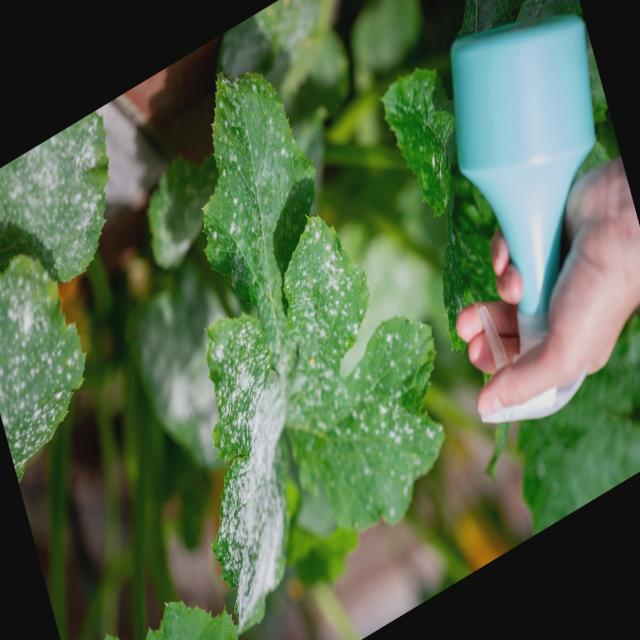Powdery Mildew: (204, 311, 288, 635), (0, 252, 86, 484)
